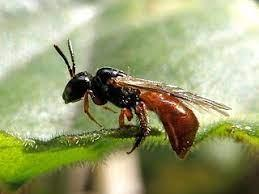Allodapula: (50, 34, 230, 162)
